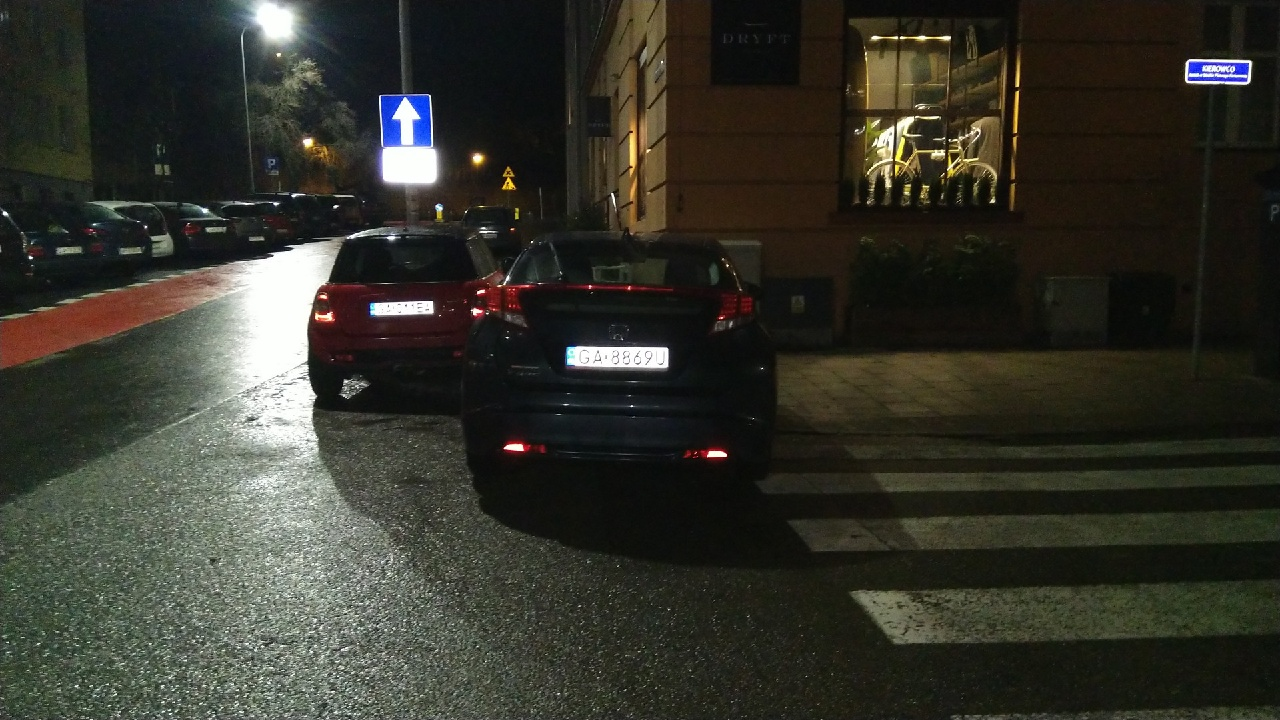D3: (378, 94, 434, 148)
